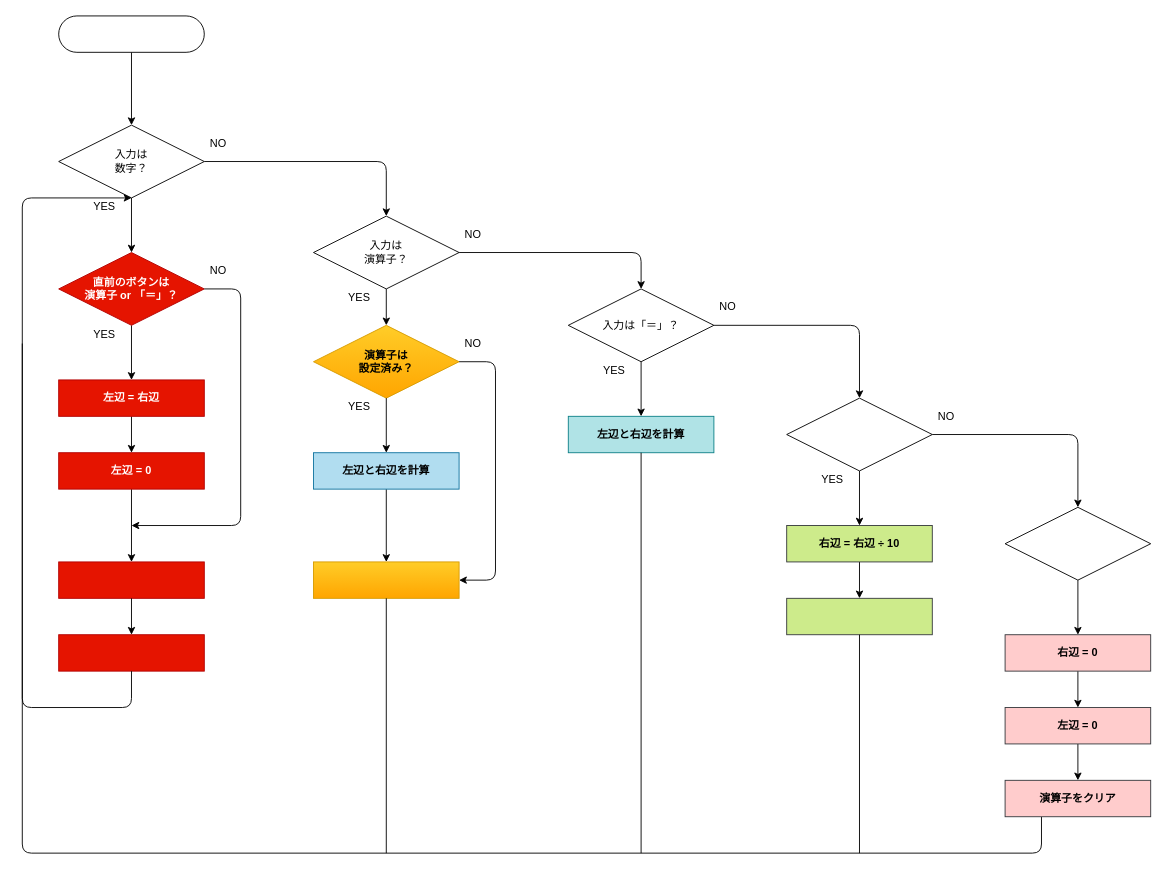
Some shapes in this 1167 by 870 pixel diagram are drawn without their labels. Each missing label, with the centre of its shape:
入力は 「AC」？: (x=1077, y=543)
入力は 「DEL」？: (x=859, y=434)
右辺 = 右辺 + 入力した数字: (x=131, y=652)
右辺 = 右辺 × 10: (x=131, y=579)
小数切り捨て: (x=859, y=616)
演算子を変更: (x=386, y=579)
開始: (x=131, y=33)
